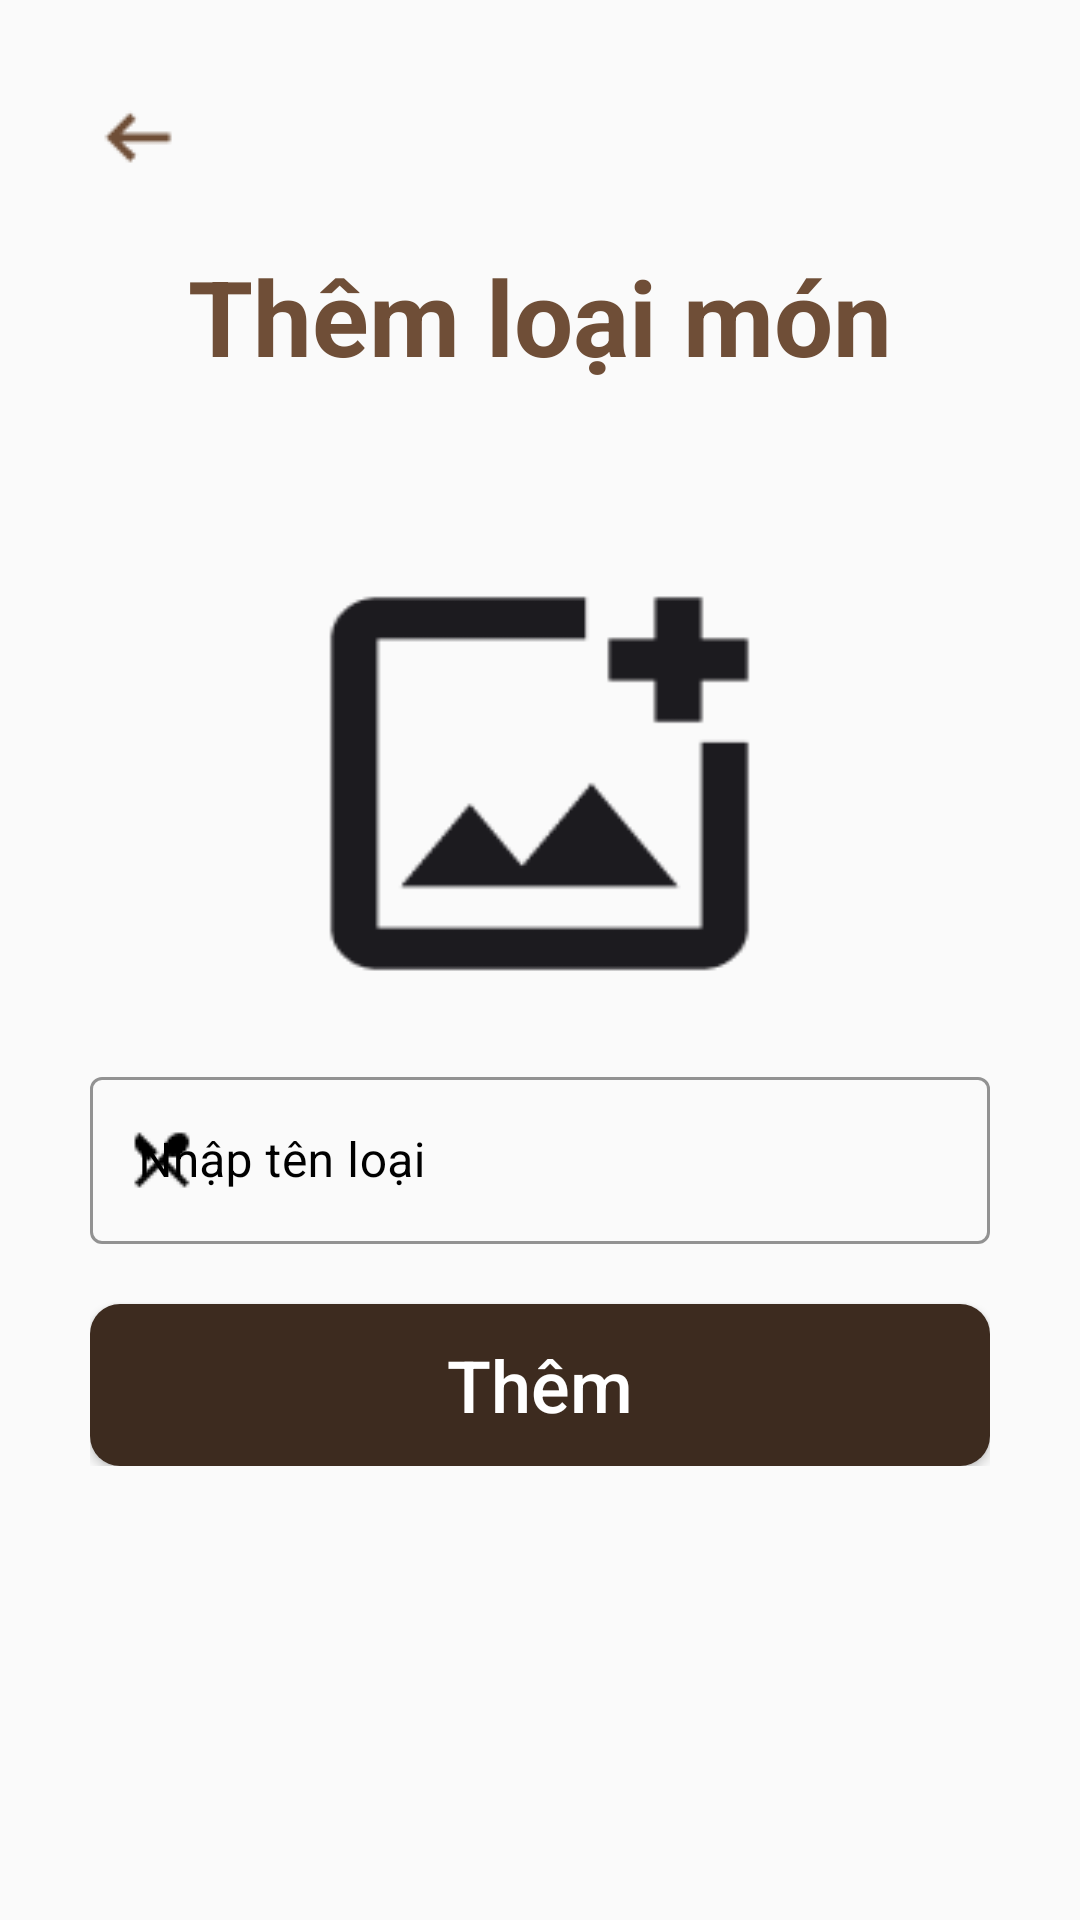

Where icons sit on this 1080*1920 app screen, as [x1=x1, y1=y1, x2=x2, y2=y2]:
arrow left: [x1=105, y1=113, x2=172, y2=163]
